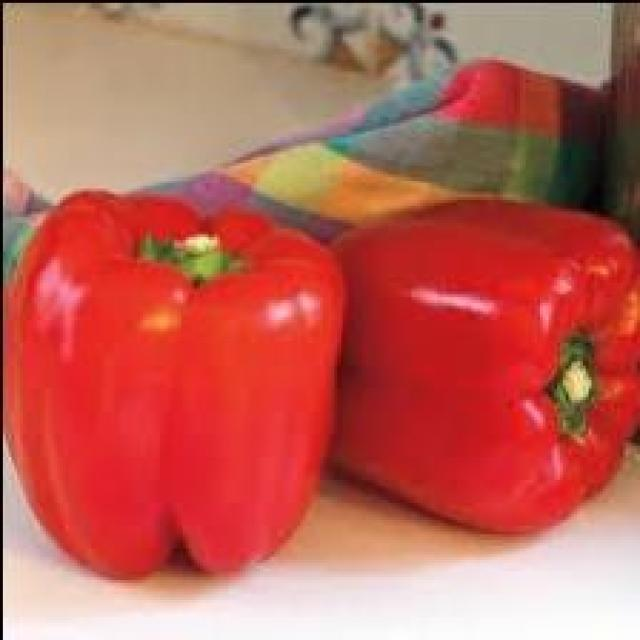Pepper: (9, 174, 349, 583), (329, 197, 640, 537)
